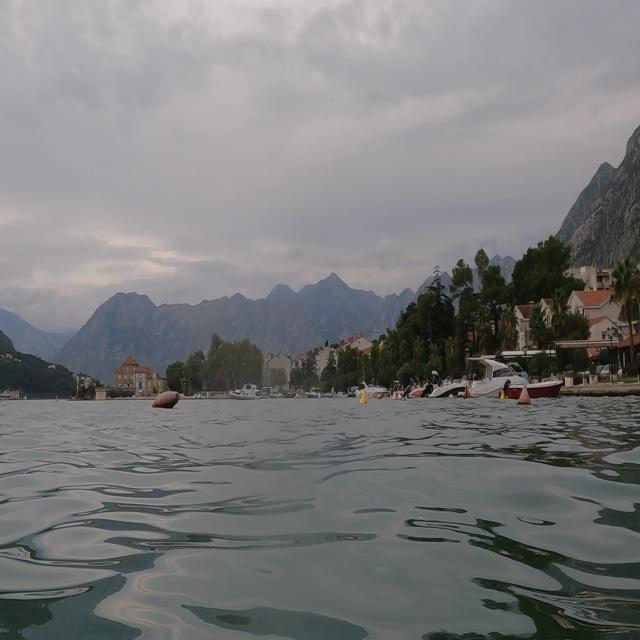boat: (460, 340, 580, 418), (407, 365, 474, 411), (227, 377, 266, 412)
buoy: (147, 384, 188, 424), (517, 371, 536, 412), (358, 388, 371, 411)
